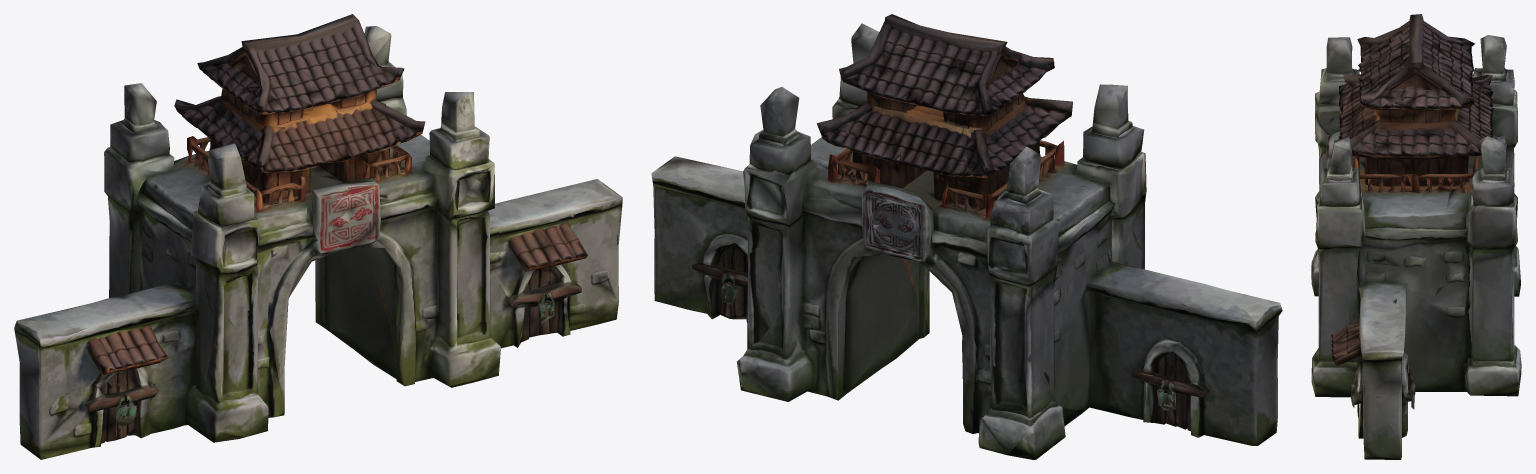
Rendered from cong-lang-khac-dau.f01006a2.glb.
3 views of the same model, side by side, from view 1: azimuth 30°, elevation 25°; view 2: azimuth 150°, elevation 25°; view 3: azimuth 270°, elevation 25° (orthographic). The views are drawn at different scales.
Visible parts, largest first — view 1: tripo_node_4275f2ba-d3f9-4a52-b65b-04fd95d95cd3; view 2: tripo_node_4275f2ba-d3f9-4a52-b65b-04fd95d95cd3; view 3: tripo_node_4275f2ba-d3f9-4a52-b65b-04fd95d95cd3.
Boxes of the visible parts, left/top/right/bottom form: tripo_node_4275f2ba-d3f9-4a52-b65b-04fd95d95cd3: left=14, top=14, right=622, bottom=459; tripo_node_4275f2ba-d3f9-4a52-b65b-04fd95d95cd3: left=651, top=14, right=1282, bottom=459; tripo_node_4275f2ba-d3f9-4a52-b65b-04fd95d95cd3: left=1311, top=14, right=1521, bottom=459.
Size of the model in its own units: 0.9763 by 0.5439 by 0.3453.
Materials: 1 (1 with a texture image).
